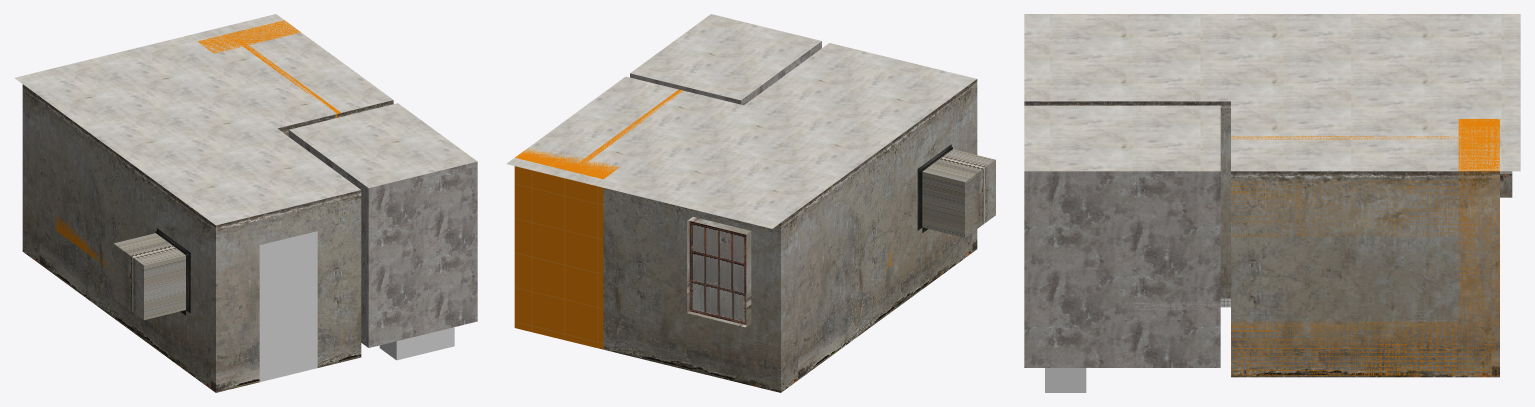
File: room.glb
The picture shows the model from 3 angles, left to right: view 1: azimuth 30°, elevation 25°; view 2: azimuth 150°, elevation 25°; view 3: azimuth 270°, elevation 25°; orthographic projection. The views are drawn at different scales.
Visible parts, largest first — view 1: Room-col.001, Ceiling, Room-col, Wall, Toilet, Cube.003, Desk-col; view 2: Room-col.001, Ceiling, Wall, Room-col, Plane.001, Cube.003; view 3: Ceiling, Room-col.001, Room-col, Wall, Bed, Cupboard, Toilet, Cube.003.
Part boxes in pixels (bbox=[...]): Room-col.001: bbox=[22, 84, 361, 392]; Ceiling: bbox=[15, 14, 392, 225]; Room-col: bbox=[277, 100, 477, 347]; Wall: bbox=[198, 20, 300, 53]; Toilet: bbox=[379, 327, 454, 360]; Cube.003: bbox=[235, 39, 340, 117]; Desk-col: bbox=[56, 216, 113, 271]; Room-col.001: bbox=[603, 79, 995, 392]; Ceiling: bbox=[506, 43, 976, 228]; Wall: bbox=[514, 148, 619, 349]; Room-col: bbox=[630, 14, 821, 105]; Plane.001: bbox=[689, 221, 746, 324]; Cube.003: bbox=[577, 89, 683, 164]; Ceiling: bbox=[1024, 14, 1520, 171]; Room-col.001: bbox=[1231, 171, 1512, 377]; Room-col: bbox=[1024, 101, 1230, 367]; Wall: bbox=[1458, 119, 1499, 377]; Bed: bbox=[1231, 321, 1458, 377]; Cupboard: bbox=[1231, 180, 1479, 236]; Toilet: bbox=[1045, 368, 1086, 392]; Cube.003: bbox=[1231, 136, 1457, 139].
Size of the model in its own units: 21.1 by 12.3 by 24.
Materials: 11 (8 with a texture image).
